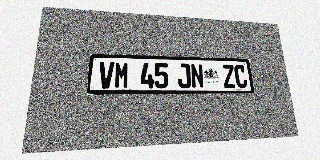4: (140, 62, 154, 88)
5: (155, 63, 169, 88)
C: (234, 65, 248, 88)
J: (177, 63, 191, 88)
M: (114, 62, 129, 89)
N: (190, 64, 204, 88)
V: (98, 62, 114, 89)
Z: (222, 64, 236, 88)
